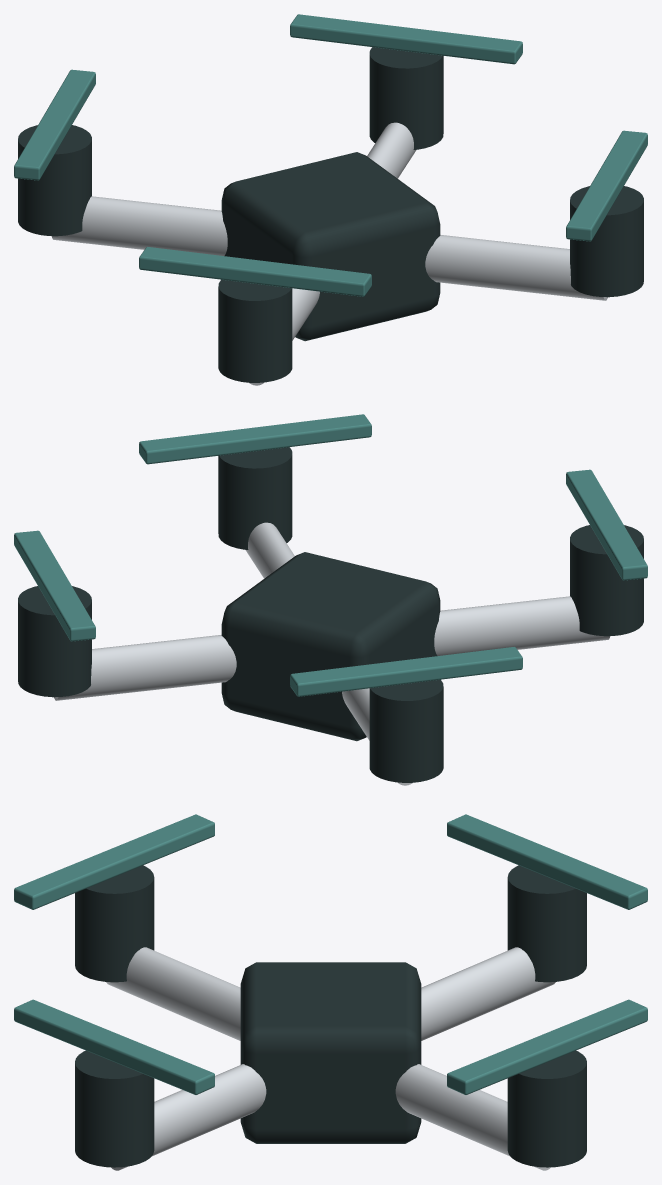
The model's file is wp-drone-a-quatre-rotors.glb.
The picture shows the model from 3 angles, top to bottom: view 1: azimuth 30°, elevation 25°; view 2: azimuth 150°, elevation 25°; view 3: azimuth 270°, elevation 25°; orthographic projection. The views are drawn at different scales.
Parts seen in each view (by area): view 1: wp-drone-a-quatre-rotors; view 2: wp-drone-a-quatre-rotors; view 3: wp-drone-a-quatre-rotors.
Part boxes in pixels (x1,y1,x2,y2): wp-drone-a-quatre-rotors: [14, 14, 647, 385]; wp-drone-a-quatre-rotors: [14, 414, 647, 785]; wp-drone-a-quatre-rotors: [14, 814, 647, 1170].
Size of the model in its own units: 0.6982 by 0.2 by 0.6982.
